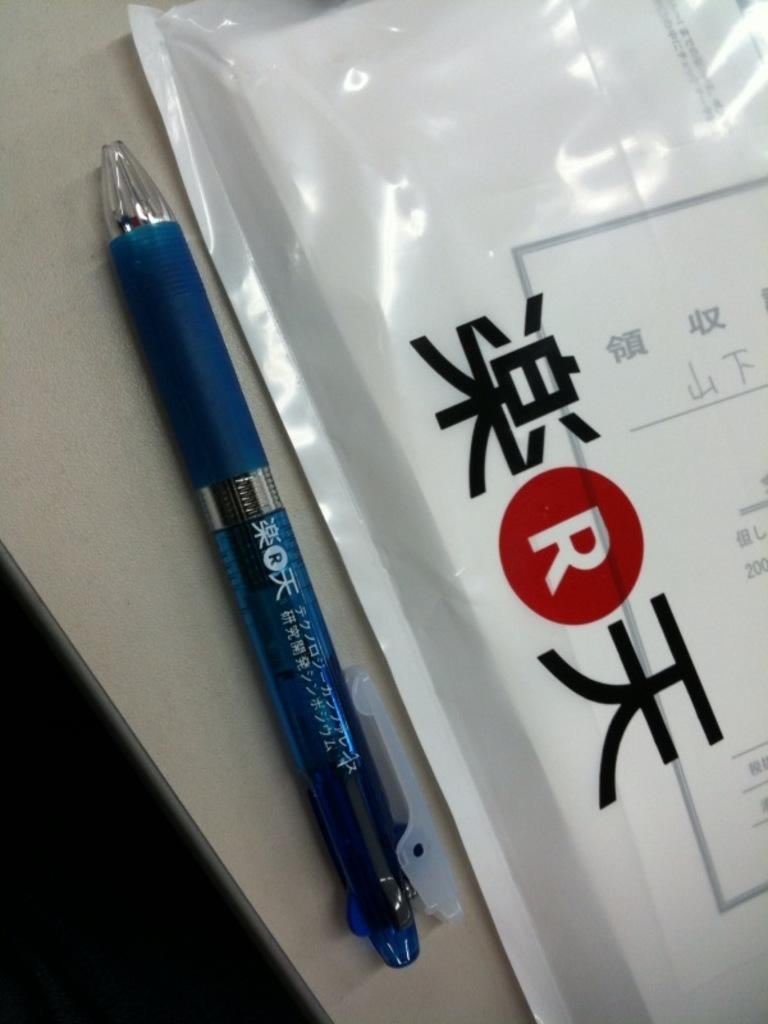pen: (105, 142, 420, 965)
